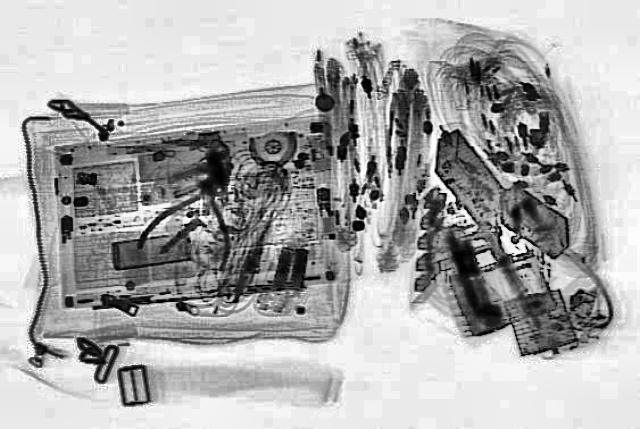Pliers: (129, 153, 267, 269)
